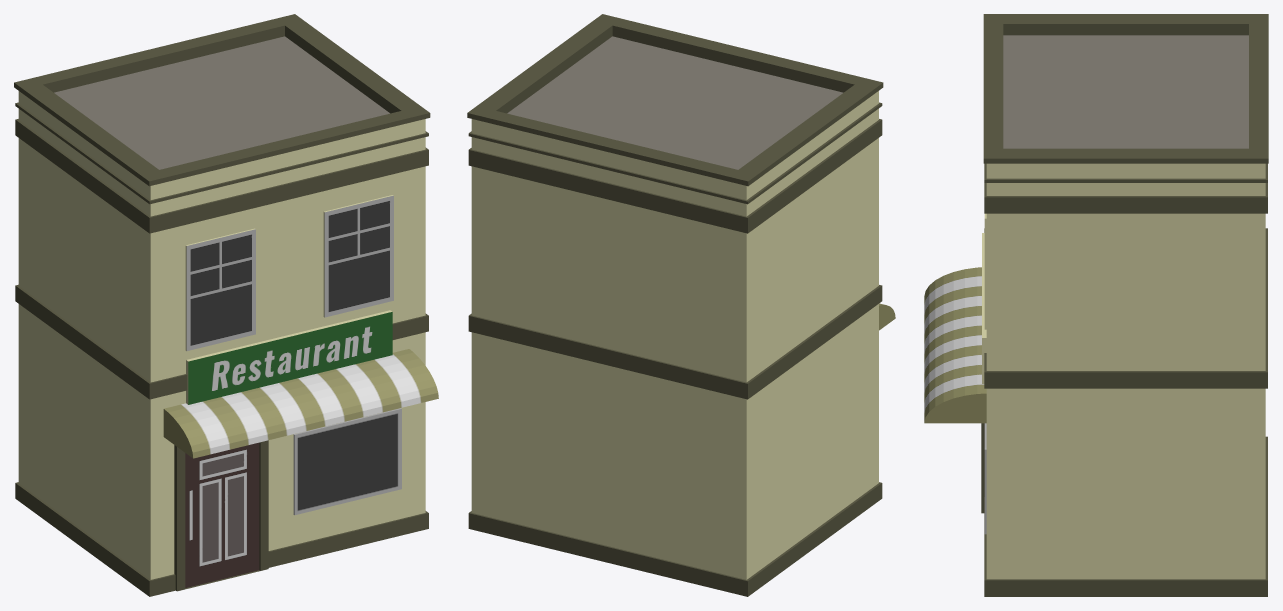
File: building-restaurant.glb
3 views of the same model, side by side, from view 1: azimuth 30°, elevation 25°; view 2: azimuth 150°, elevation 25°; view 3: azimuth 270°, elevation 25° (orthographic). The views are drawn at different scales.
Visible parts, largest first — view 1: model; view 2: model; view 3: model.
Boxes of the visible parts, x1,y1,x2,y2 form: model: (14,14,438,596); model: (467,14,895,596); model: (924,14,1268,596).
Bounding box in the file's own units: 7.36 × 10.41 × 7.41.
1 material, 1 textured.
